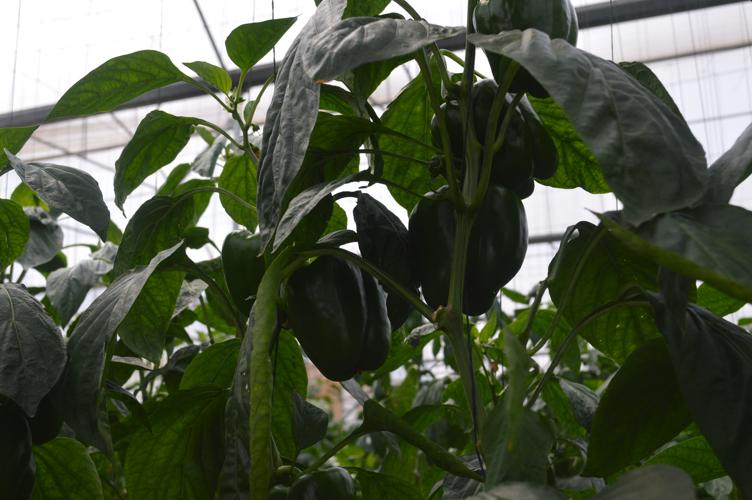BellPepper: (409, 187, 527, 318), (282, 257, 404, 376), (429, 82, 557, 193), (473, 1, 576, 101), (220, 232, 276, 317)
